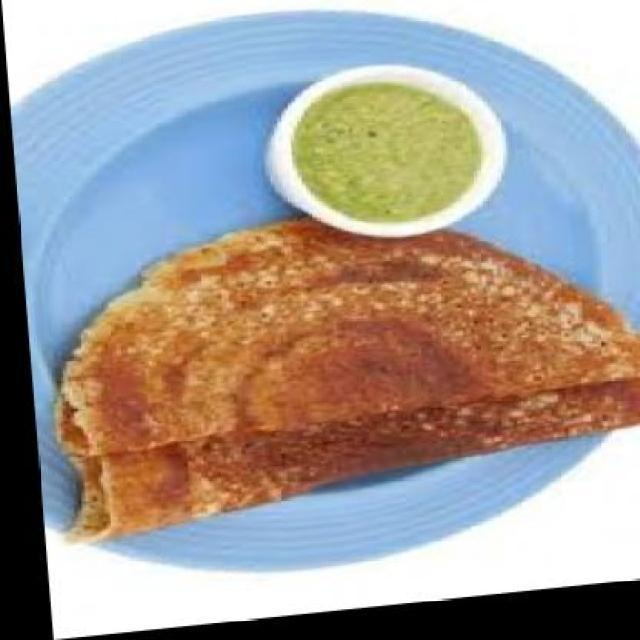besan_cheela: (35, 194, 640, 460), (47, 389, 640, 545)
